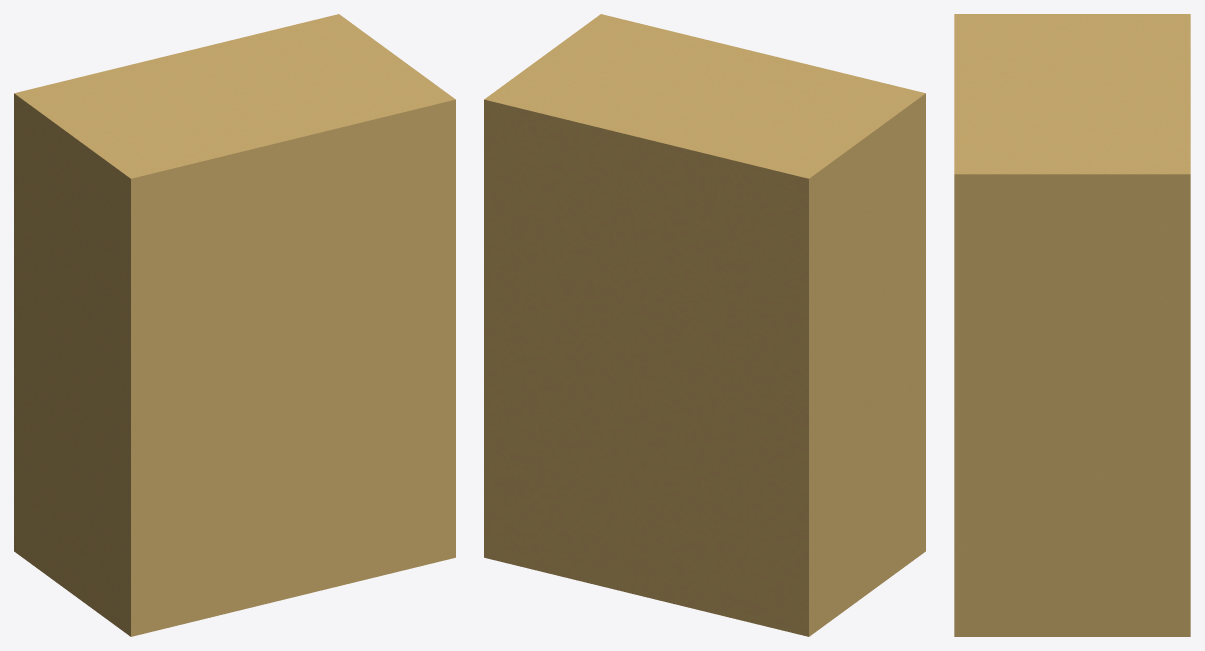
Rendered from sterilvognguld.glb.
The picture shows the model from 3 angles, left to right: view 1: azimuth 30°, elevation 25°; view 2: azimuth 150°, elevation 25°; view 3: azimuth 270°, elevation 25°; orthographic projection.
Visible parts, largest first — view 1: Cube59; view 2: Cube59; view 3: Cube59.
Boxes of the visible parts, bbox=[...] form: Cube59: bbox=[14, 14, 455, 636]; Cube59: bbox=[484, 14, 925, 636]; Cube59: bbox=[954, 14, 1190, 636].
Bounding box in the file's own units: 1.24 × 1.66 × 0.77.
Materials: 1 (1 with a texture image).
